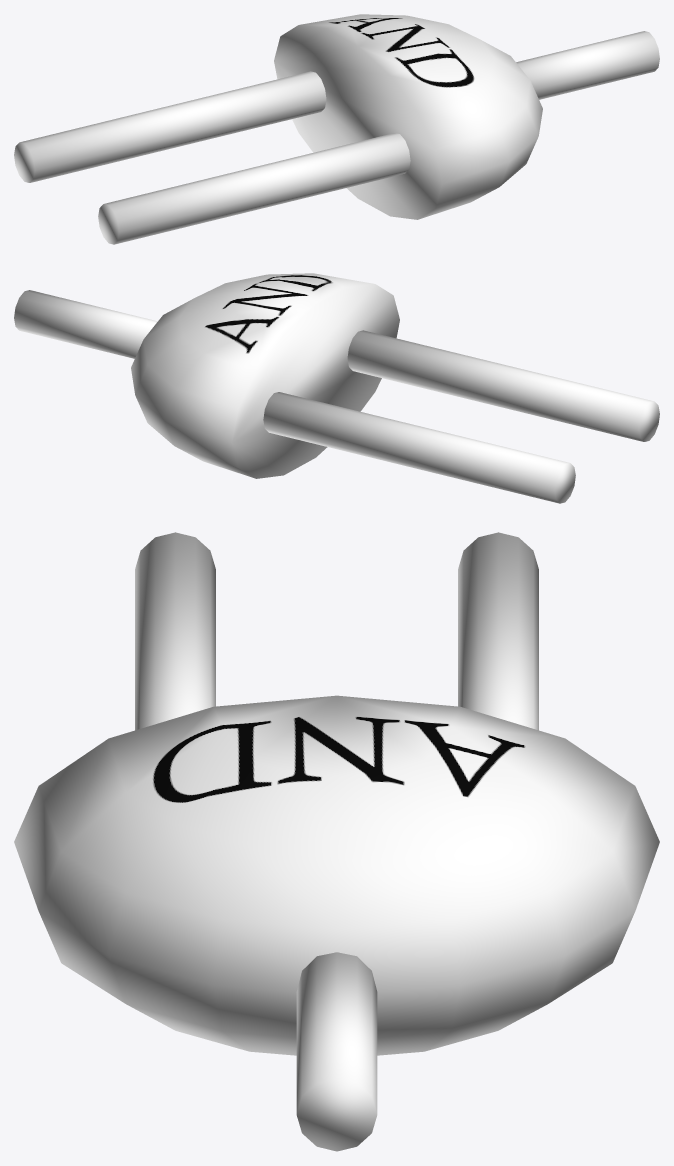
File: AND textura.fbx
The picture shows the model from 3 angles, top to bottom: view 1: azimuth 30°, elevation 25°; view 2: azimuth 150°, elevation 25°; view 3: azimuth 270°, elevation 25°; orthographic projection. The views are drawn at different scales.
Parts seen in each view (by area): view 1: Cylinder; view 2: Cylinder; view 3: Cylinder.
Boxes of the visible parts, x1=… form: Cylinder: x1=14, y1=14, x2=659, y2=244; Cylinder: x1=14, y1=273, x2=659, y2=503; Cylinder: x1=14, y1=532, x2=659, y2=1151.
Size of the model in its own units: 3200 by 800 by 1600.
Materials: 1 (1 with a texture image).
